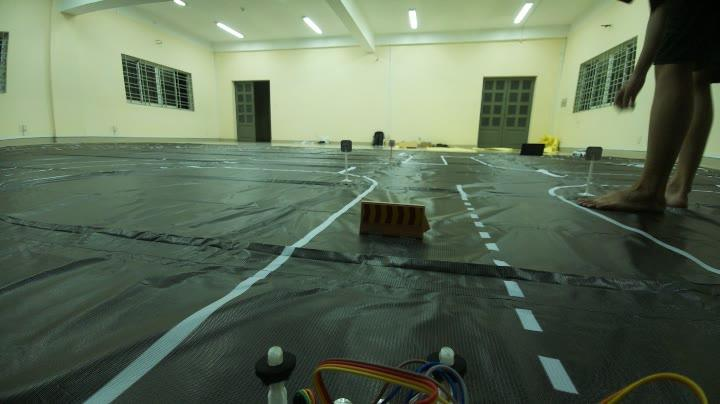roadblock: (351, 192, 444, 256)
